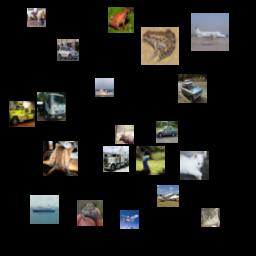airplane: (191, 13, 229, 51), (157, 185, 179, 207), (120, 210, 139, 229)
automobile: (178, 74, 207, 103), (156, 121, 178, 143), (57, 39, 79, 61)
bird: (136, 146, 165, 175)
cat: (43, 141, 78, 176), (180, 151, 209, 180), (201, 208, 220, 227)
deer: (115, 125, 134, 144)
frog: (141, 27, 179, 65), (108, 7, 134, 33), (77, 200, 103, 226)
ship: (30, 195, 59, 224), (95, 78, 114, 97)
truck: (37, 92, 66, 121), (103, 146, 129, 172), (9, 101, 35, 127)
